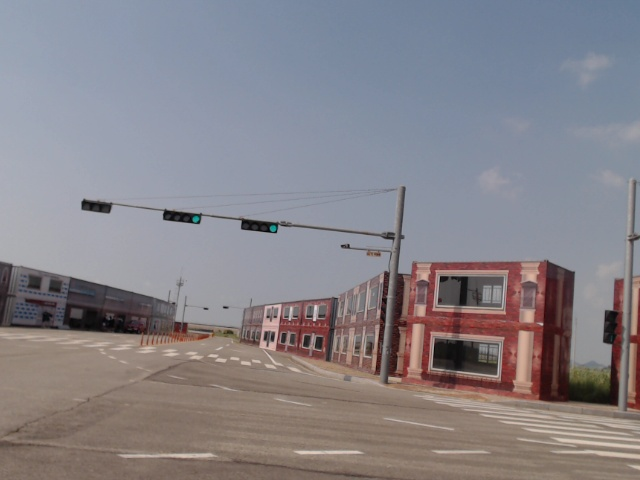straight_green_4: (242, 219, 279, 233), (164, 211, 203, 224)
